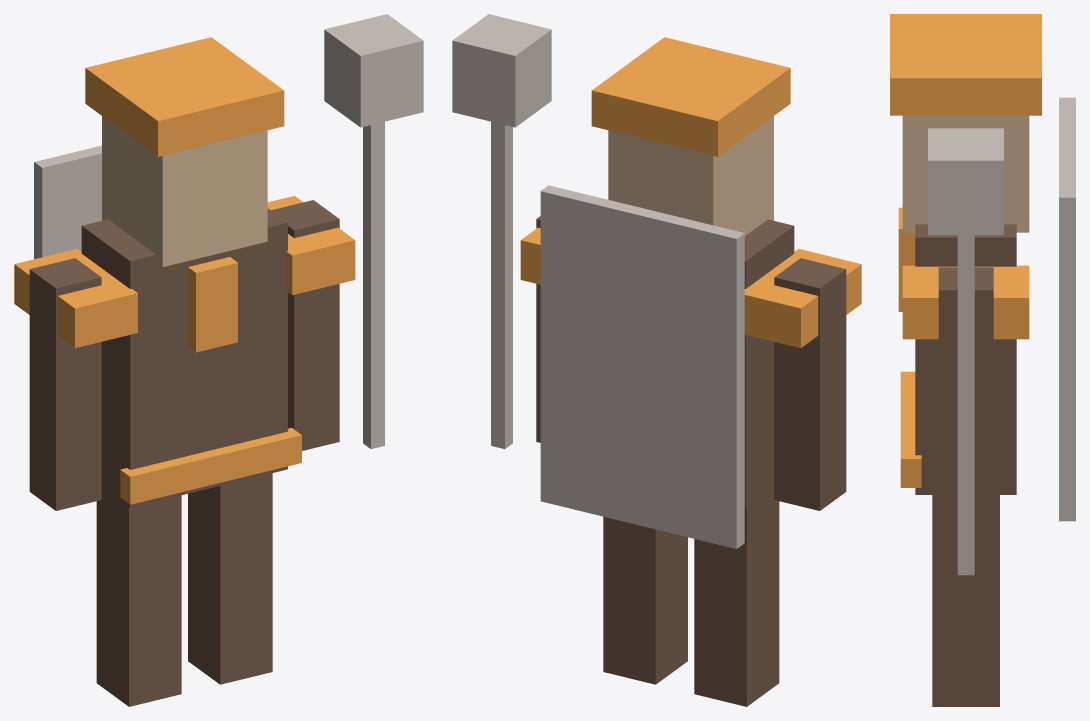
Rendered from 02_bryn_gantryn_runner_from_pack.glb.
3 renders of one model, left to right at view 1: azimuth 30°, elevation 25°; view 2: azimuth 150°, elevation 25°; view 3: azimuth 270°, elevation 25°, orthographic. The views are drawn at different scales.
Parts seen in each view (by area): view 1: Bryn Gantryn, Runner from Pack; view 2: Bryn Gantryn, Runner from Pack; view 3: Bryn Gantryn, Runner from Pack.
Part boxes in pixels (box(x1,y1,x2,y2)): Bryn Gantryn, Runner from Pack: box(14, 14, 423, 706); Bryn Gantryn, Runner from Pack: box(452, 14, 861, 706); Bryn Gantryn, Runner from Pack: box(890, 14, 1075, 706).
Size of the model in its own units: 1.07 by 1.68 by 0.4534.
